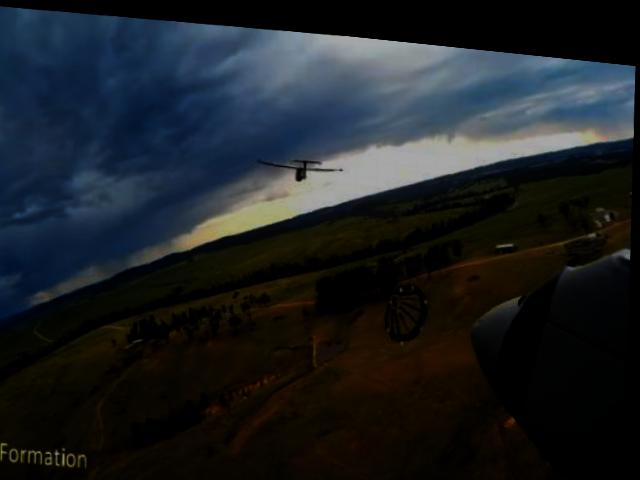uav: (252, 138, 349, 182)
